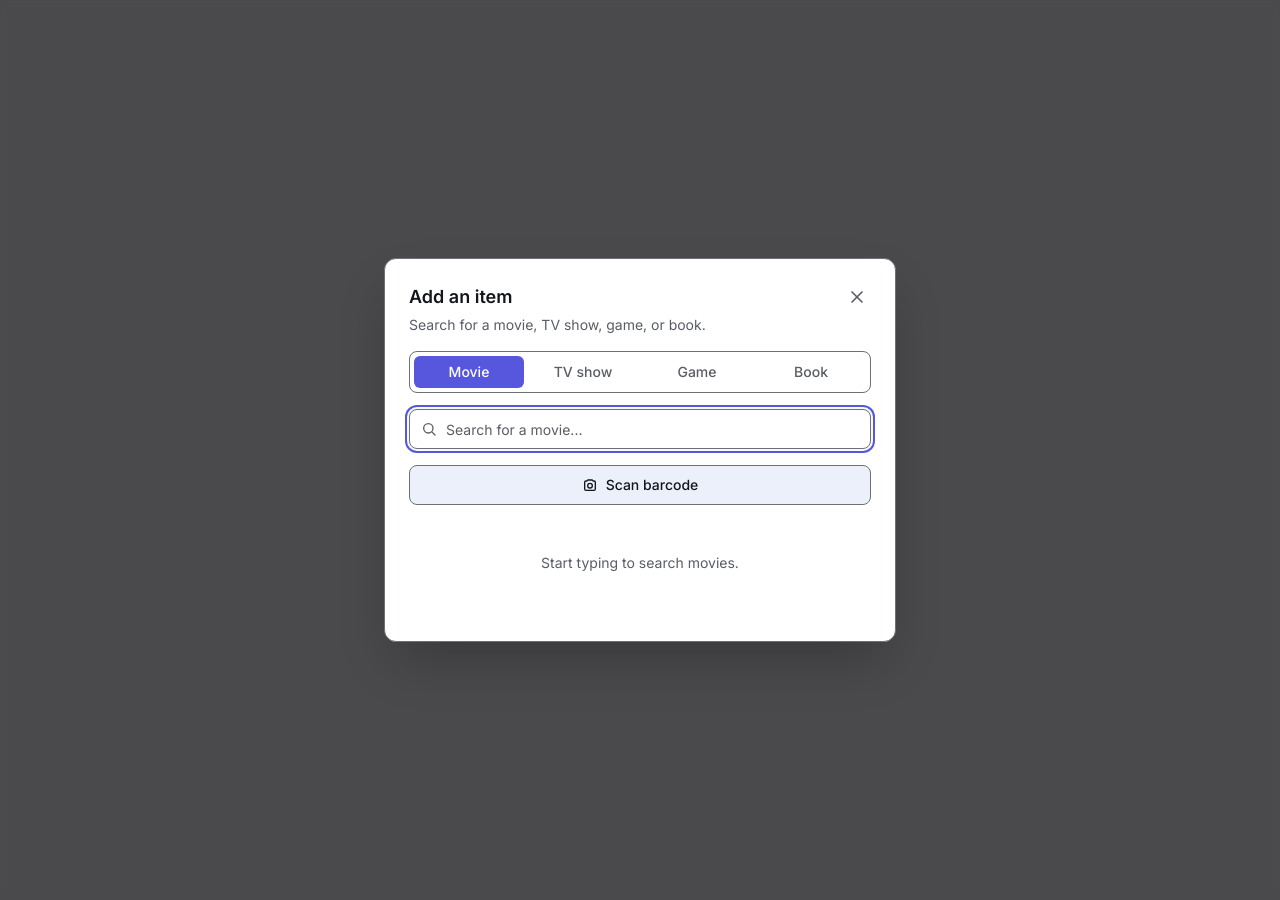
Scenario: AddItemModal search with no results in the chosen type › points to the types that do have results, and switches without searching again
The image size is (1280, 900).
Step 1. Type "Celeste" into the field labelled "Search" → (640, 429), box [409, 409, 871, 449]
Wait 350 ms
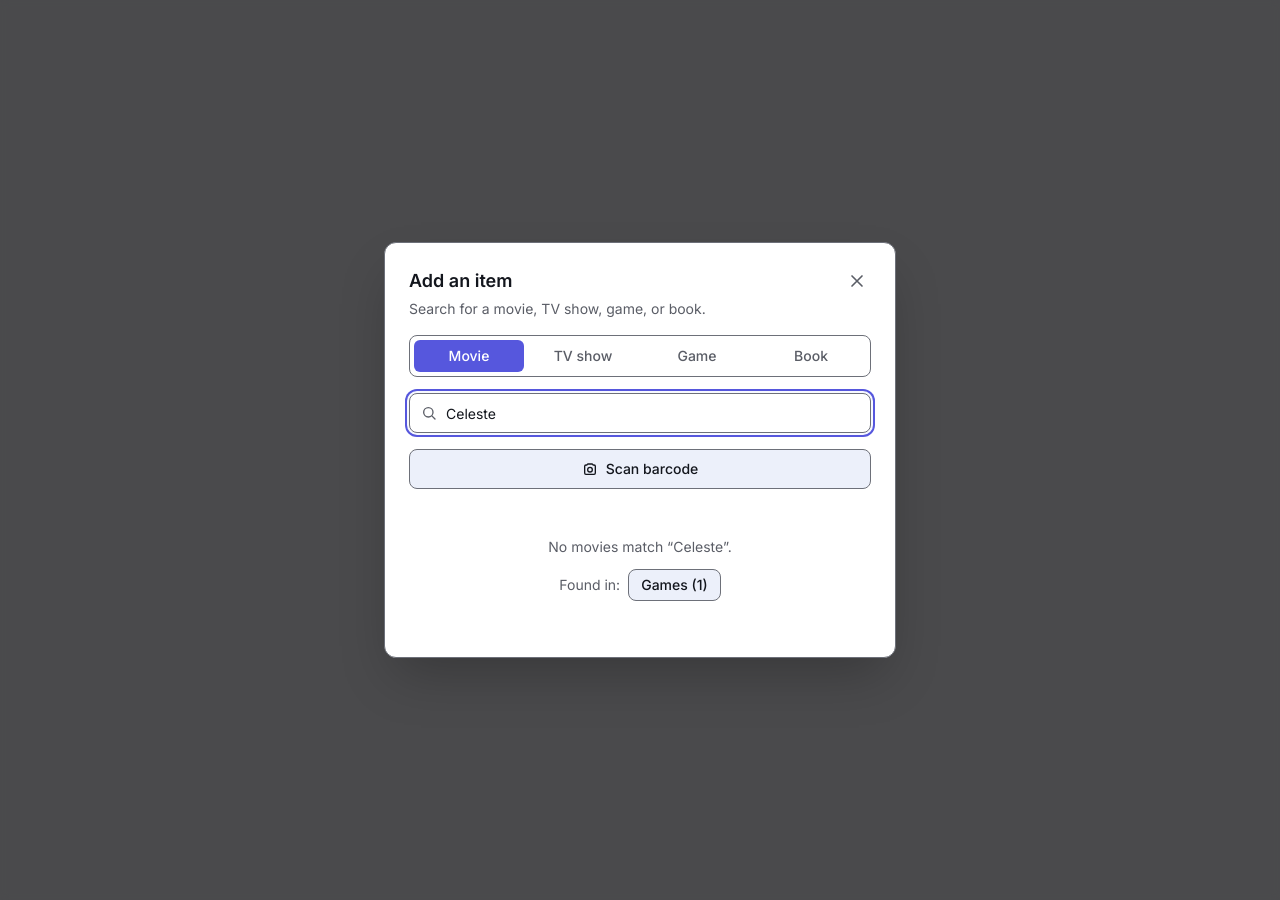
Expected: the text "No movies match “Celeste”." is shown, [548, 537, 732, 557]
Step 2. Click the button "Games (1)" → (674, 585), box [628, 569, 721, 601]
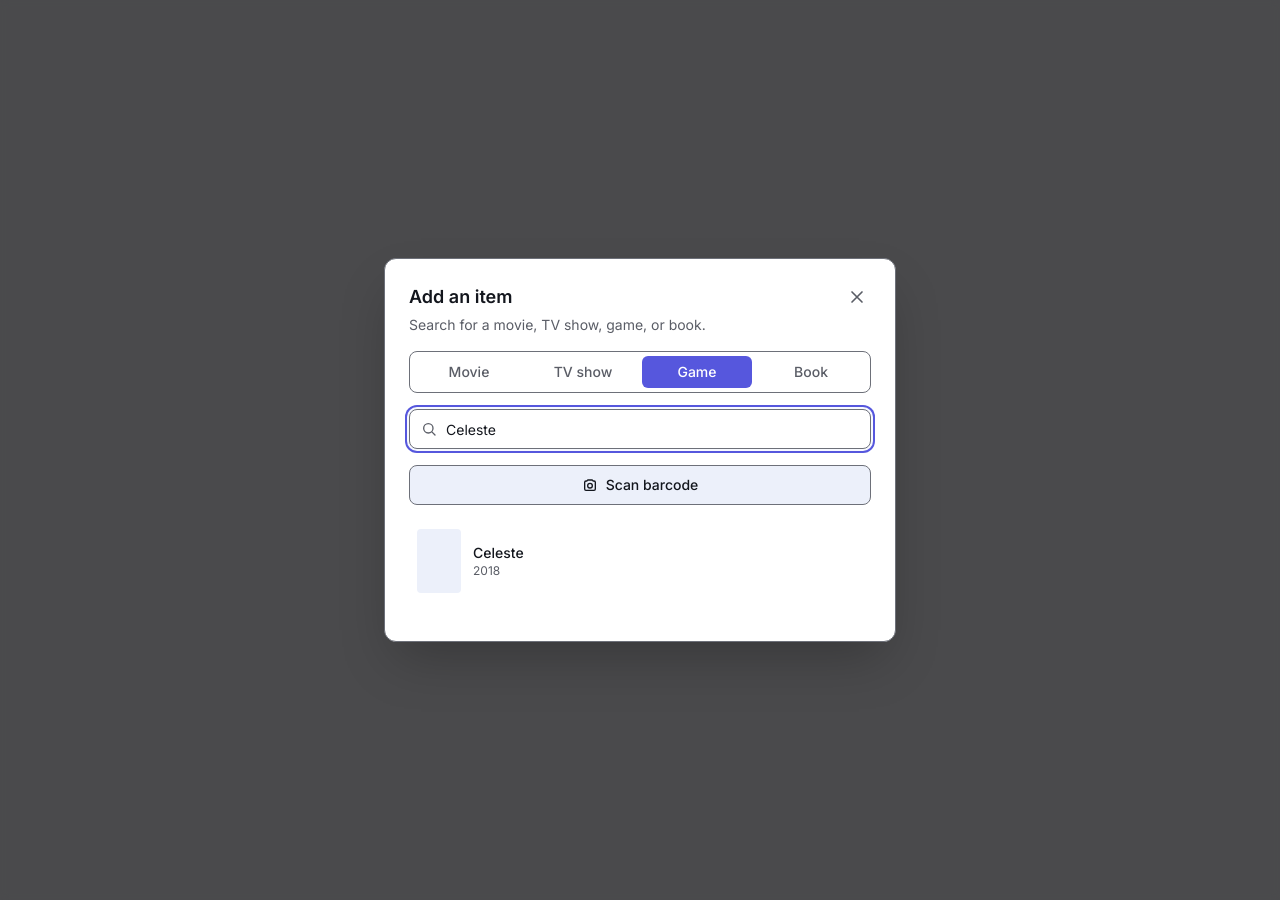
Expected: the button "Game" is shown, [642, 356, 752, 388]
Expected: the button "Celeste 2018" is shown, [409, 521, 871, 601]
